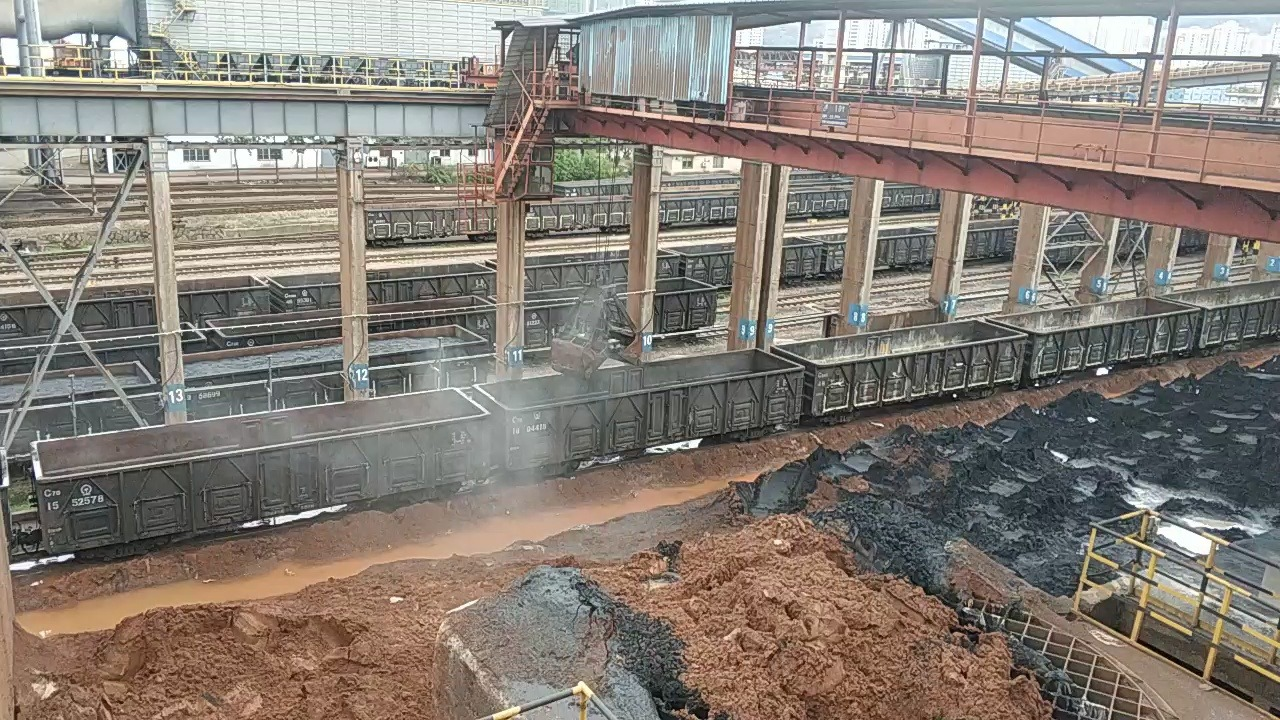dust: (158, 311, 751, 552)
grab: (547, 277, 646, 385)
